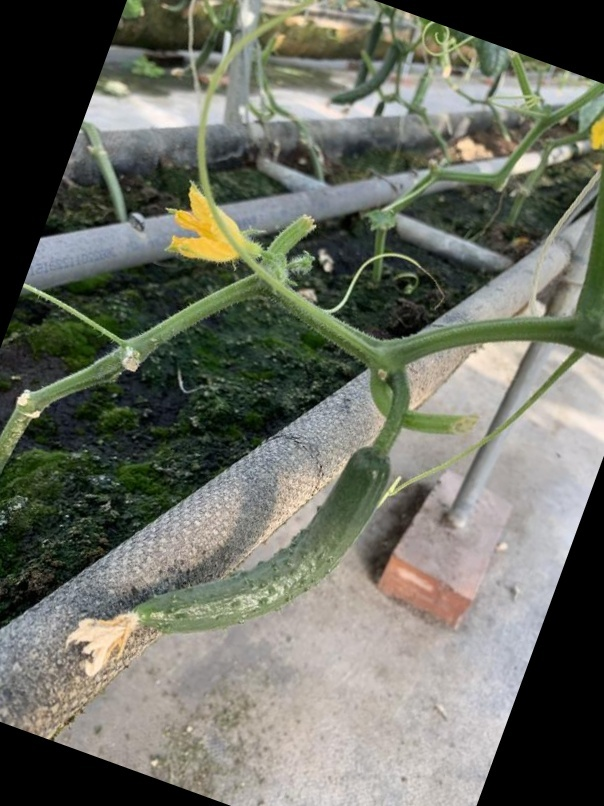bud: (170, 180, 260, 270)
growth: (100, 443, 398, 651)
